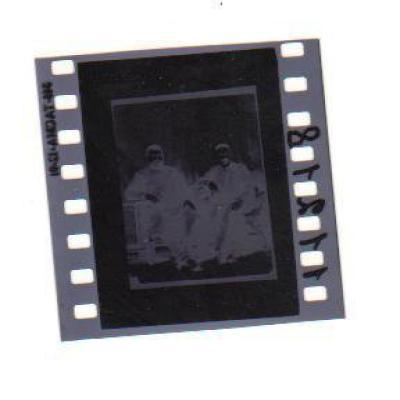photos_negatives: (88, 68, 276, 292)
